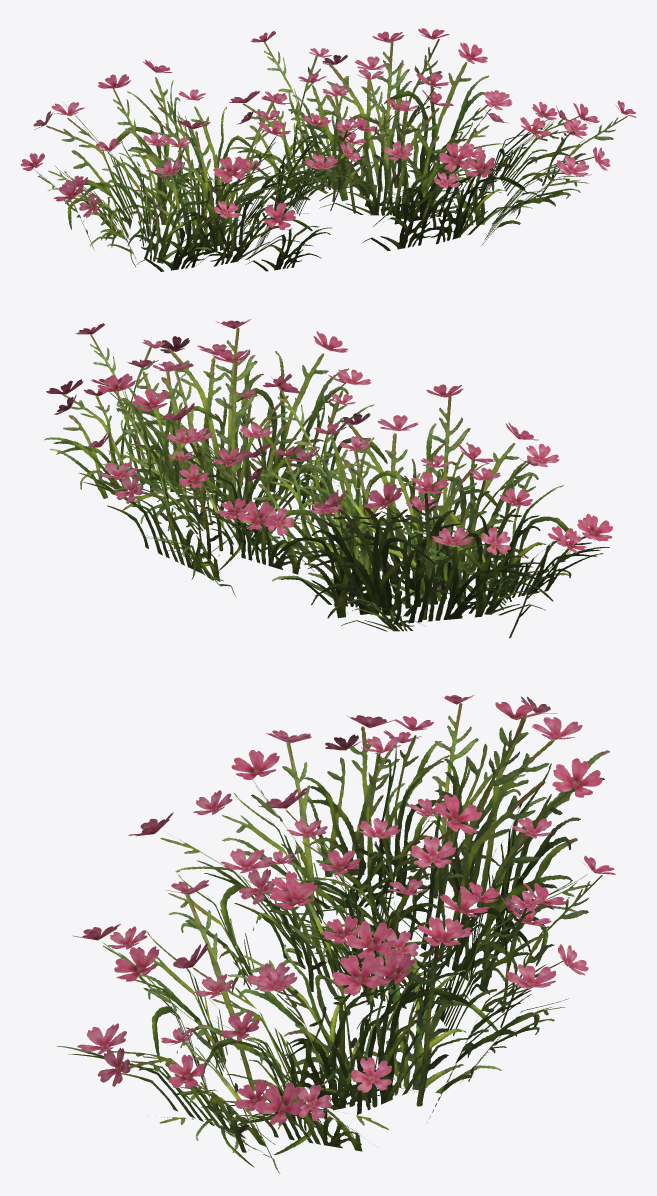
The model's file is 4002_Item_hua_1.FBX.
3 views of the same model, one above another, from view 1: azimuth 30°, elevation 25°; view 2: azimuth 150°, elevation 25°; view 3: azimuth 270°, elevation 25° (orthographic). The views are drawn at different scales.
Parts seen in each view (by area): view 1: 4002_Item_hua_1; view 2: 4002_Item_hua_1; view 3: 4002_Item_hua_1.
Part boxes in pixels (x1=…): 4002_Item_hua_1: x1=20, y1=28, x2=636, y2=271; 4002_Item_hua_1: x1=44, y1=319, x2=612, y2=638; 4002_Item_hua_1: x1=57, y1=695, x2=615, y2=1173.
Size of the model in its own units: 29862 by 8600 by 20283.
